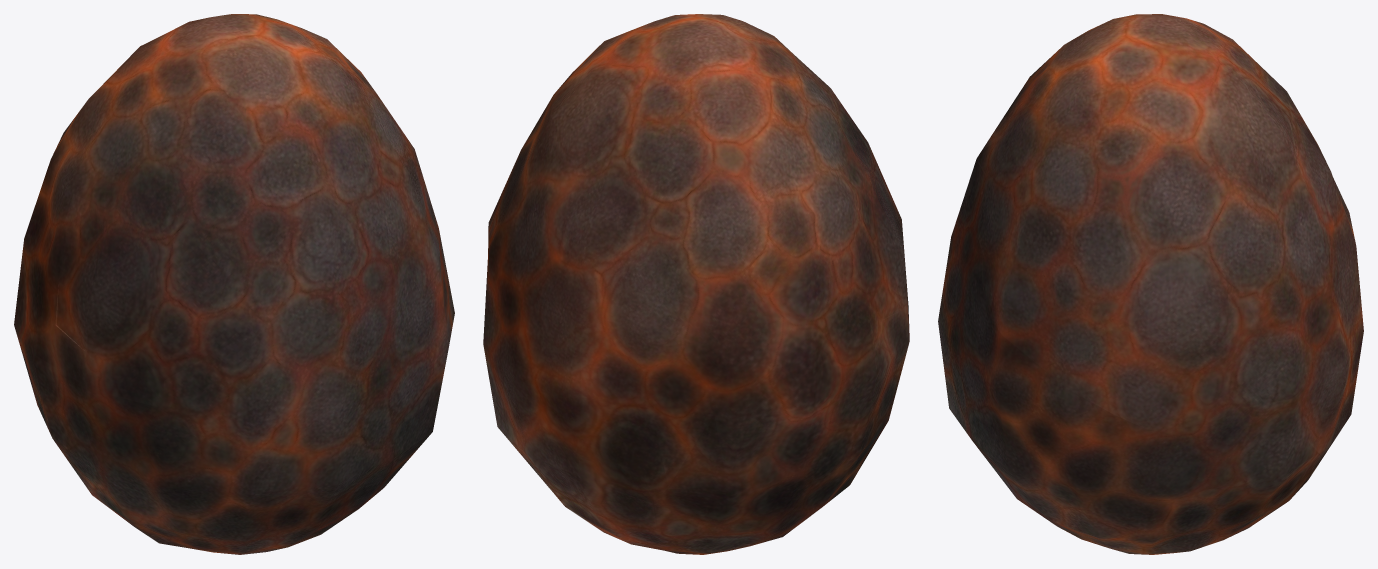
Rendered from SK_GastariasEgg.FBX.
3 renders of one model, left to right at view 1: azimuth 30°, elevation 25°; view 2: azimuth 150°, elevation 25°; view 3: azimuth 270°, elevation 25°, orthographic.
Visible parts, largest first — view 1: SM_GastariasEgg, SM_GastariasEgg_Part_3, SM_GastariasEgg_Part_7, SM_GastariasEgg_Part_4, SM_GastariasEgg_Part_10, SM_GastariasEgg_Part_2, SM_GastariasEgg_Part_5, SM_GastariasEgg_Part_8, SM_GastariasEgg_Part_9, SM_GastariasEgg_Part_1; view 2: SM_GastariasEgg, SM_GastariasEgg_Part_1, SM_GastariasEgg_Part_6, SM_GastariasEgg_Part_5, SM_GastariasEgg_Part_4, SM_GastariasEgg_Part_2, SM_GastariasEgg_Part_7, SM_GastariasEgg_Part_8; view 3: SM_GastariasEgg_Part_4, SM_GastariasEgg_Part_9, SM_GastariasEgg, SM_GastariasEgg_Part_8, SM_GastariasEgg_Part_6, SM_GastariasEgg_Part_3, SM_GastariasEgg_Part_1.
Boxes of the visible parts, x1,y1,x2,y2 form: SM_GastariasEgg: [14, 14, 447, 554]; SM_GastariasEgg_Part_3: [273, 254, 430, 546]; SM_GastariasEgg_Part_7: [57, 125, 332, 377]; SM_GastariasEgg_Part_4: [160, 14, 422, 255]; SM_GastariasEgg_Part_10: [152, 283, 328, 549]; SM_GastariasEgg_Part_2: [36, 325, 177, 545]; SM_GastariasEgg_Part_5: [35, 123, 105, 354]; SM_GastariasEgg_Part_8: [380, 293, 454, 490]; SM_GastariasEgg_Part_9: [396, 177, 450, 294]; SM_GastariasEgg_Part_1: [52, 35, 163, 156]; SM_GastariasEgg: [493, 15, 909, 554]; SM_GastariasEgg_Part_1: [579, 70, 791, 529]; SM_GastariasEgg_Part_6: [483, 95, 673, 476]; SM_GastariasEgg_Part_5: [624, 137, 883, 533]; SM_GastariasEgg_Part_4: [509, 14, 783, 178]; SM_GastariasEgg_Part_2: [662, 307, 908, 554]; SM_GastariasEgg_Part_7: [809, 137, 906, 318]; SM_GastariasEgg_Part_8: [493, 401, 670, 551]; SM_GastariasEgg_Part_4: [978, 14, 1252, 266]; SM_GastariasEgg_Part_9: [982, 249, 1306, 448]; SM_GastariasEgg: [951, 14, 1361, 538]; SM_GastariasEgg_Part_8: [984, 309, 1321, 554]; SM_GastariasEgg_Part_6: [1221, 50, 1363, 456]; SM_GastariasEgg_Part_3: [938, 208, 1077, 537]; SM_GastariasEgg_Part_1: [1200, 24, 1353, 411].
Bounding box in the file's own units: 70.42 × 90.52 × 68.7.
